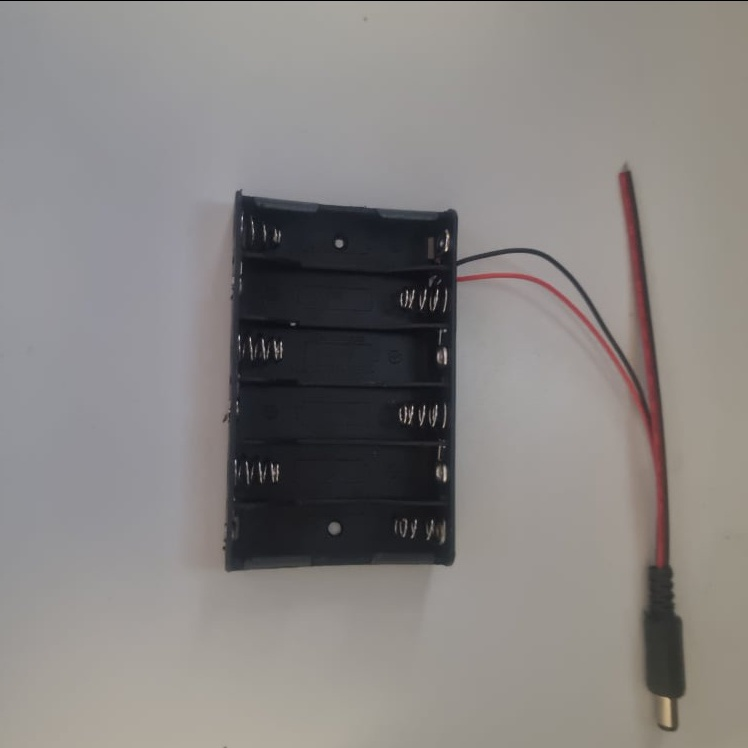BATTERY BOX: (222, 188, 458, 573)
